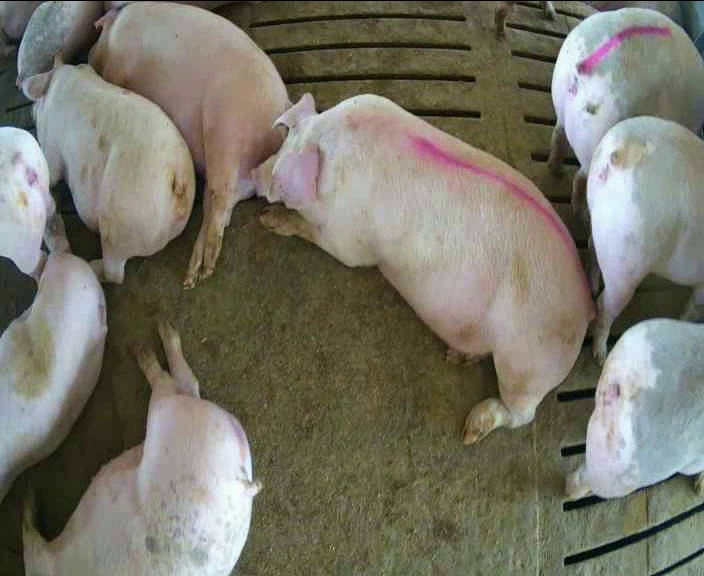pig: (253, 94, 592, 444), (19, 320, 257, 574), (89, 2, 289, 287), (22, 52, 194, 282), (548, 8, 703, 220), (586, 117, 703, 358), (566, 319, 703, 498), (17, 1, 103, 84)
